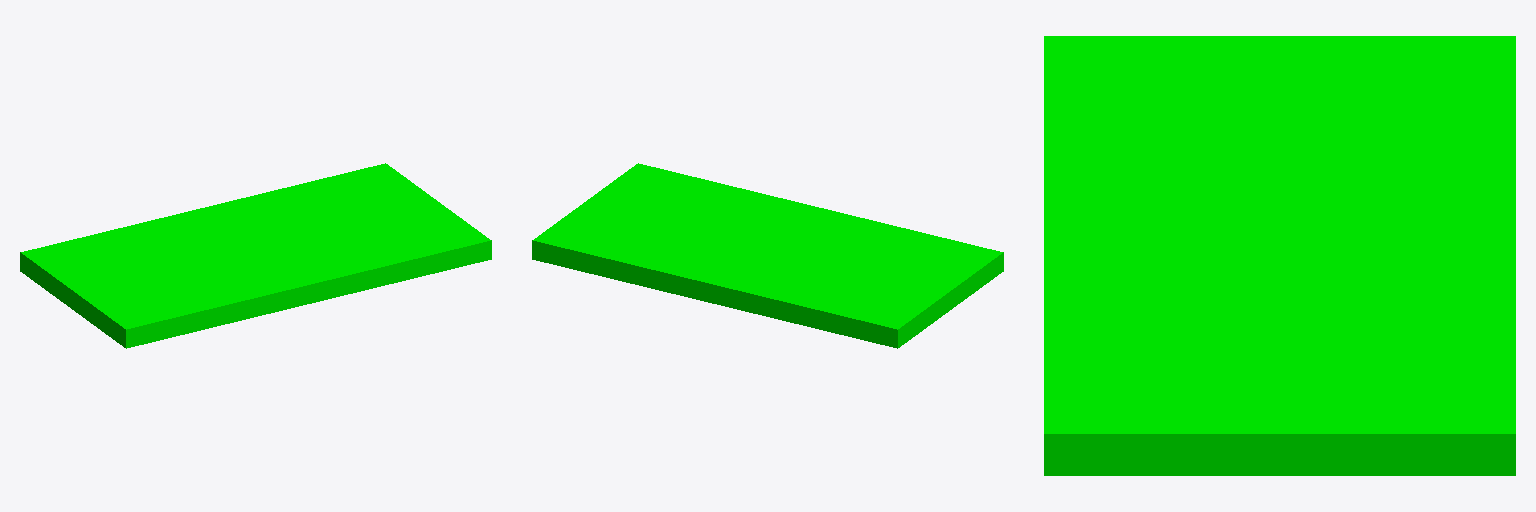
URDF robot description (box_visual_only):
<?xml version="1.0"?>
<robot name="box_visual_only">
  <link name="box_link">
    <visual>
      <geometry>
        <box size="0.2 0.1 0.01" /> 
      </geometry>
      <origin xyz="0 -0.43 0.00163" rpy="0 0 0" /> 
      <material name="green">
        <color rgba="0 1 0 1" /> 
      </material>
    </visual>

    <inertial>
      <mass value="0.0001" />  <!-- Very small mass since it's mainly visual -->
      <origin xyz="0 0 0" rpy="0 0 0" />
      <inertia ixx="1e-6" ixy="0" ixz="0" iyy="1e-6" iyz="0" izz="1e-6" />  <!-- Low inertia values -->
    </inertial>
  </link>
</robot>

--- Facts derived from the render (not from the file) ---
Views: 3 orthographic renders of the robot side by side, from view 1: azimuth 30°, elevation 25°; view 2: azimuth 150°, elevation 25°; view 3: azimuth 270°, elevation 25°.
Robot: box_visual_only — 1 links, 0 joints (none); root link box_link; default pose: all joints at 0.
Links seen in each view (by area): view 1: box_link; view 2: box_link; view 3: box_link.
Link boxes in pixels (bbox=[...]): box_link: bbox=[20, 163, 491, 348]; box_link: bbox=[532, 163, 1003, 348]; box_link: bbox=[1044, 36, 1515, 475].
Size in the robot's own frame: 0.2 by 0.1 by 0.01 metres.
Geometry: primitives only (box / cylinder / sphere), no mesh files.